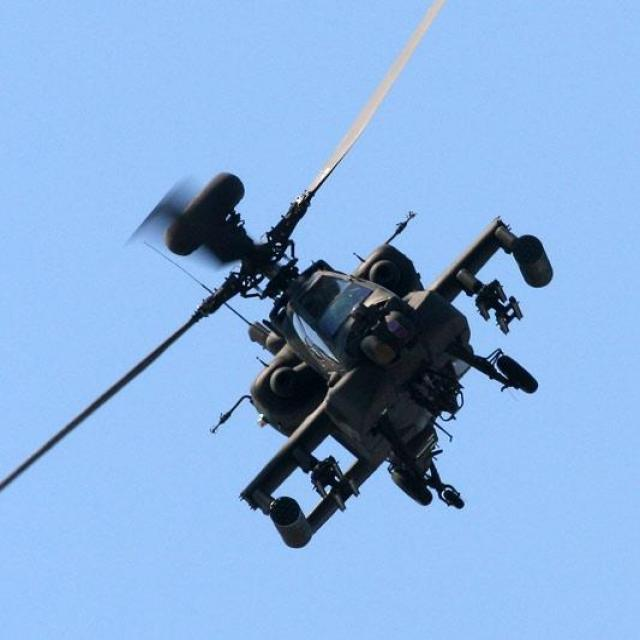MIL_HELO: (0, 10, 628, 576)
